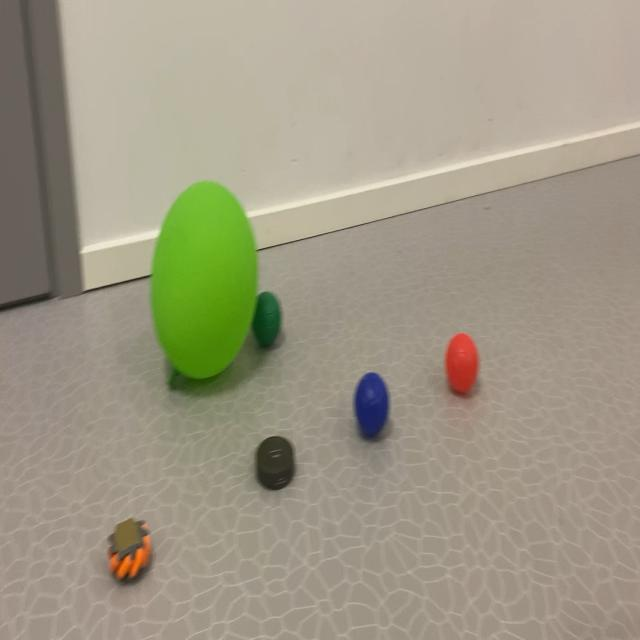7: (418, 317, 513, 478)
green ball: (338, 358, 422, 498)
red ball: (242, 249, 303, 371)
